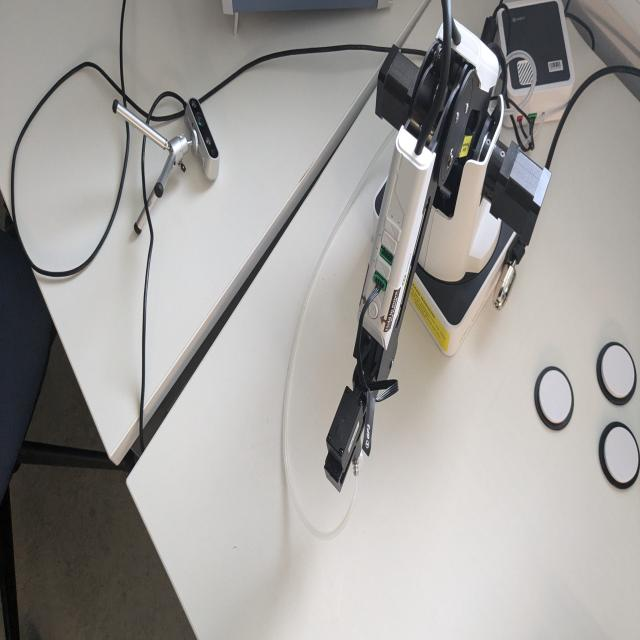Robot-end-effector-HF8z: (323, 381, 369, 496)
